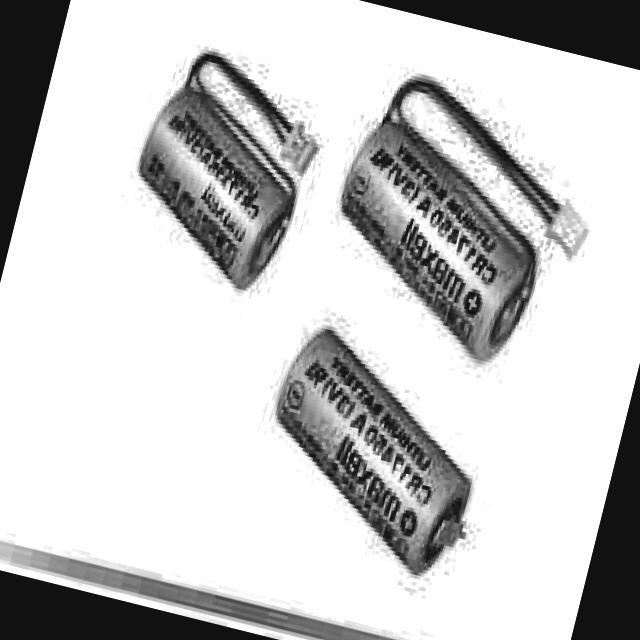Battery: (245, 329, 498, 586), (312, 111, 559, 370), (117, 82, 316, 297)
